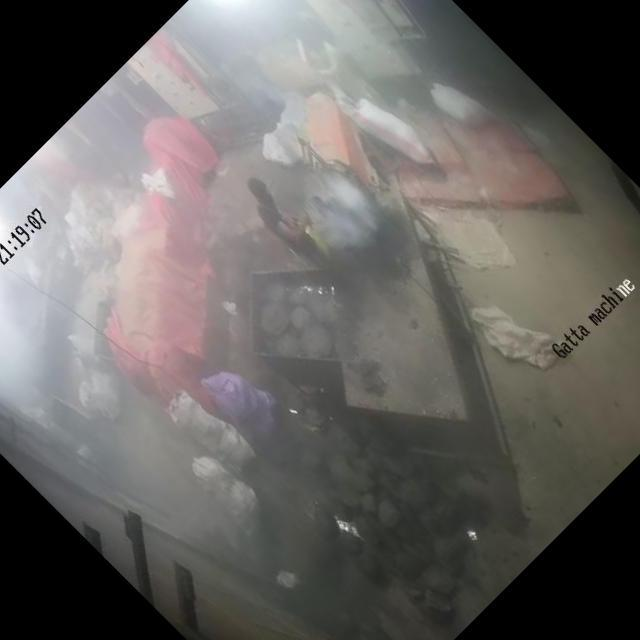person: (230, 167, 328, 265)
